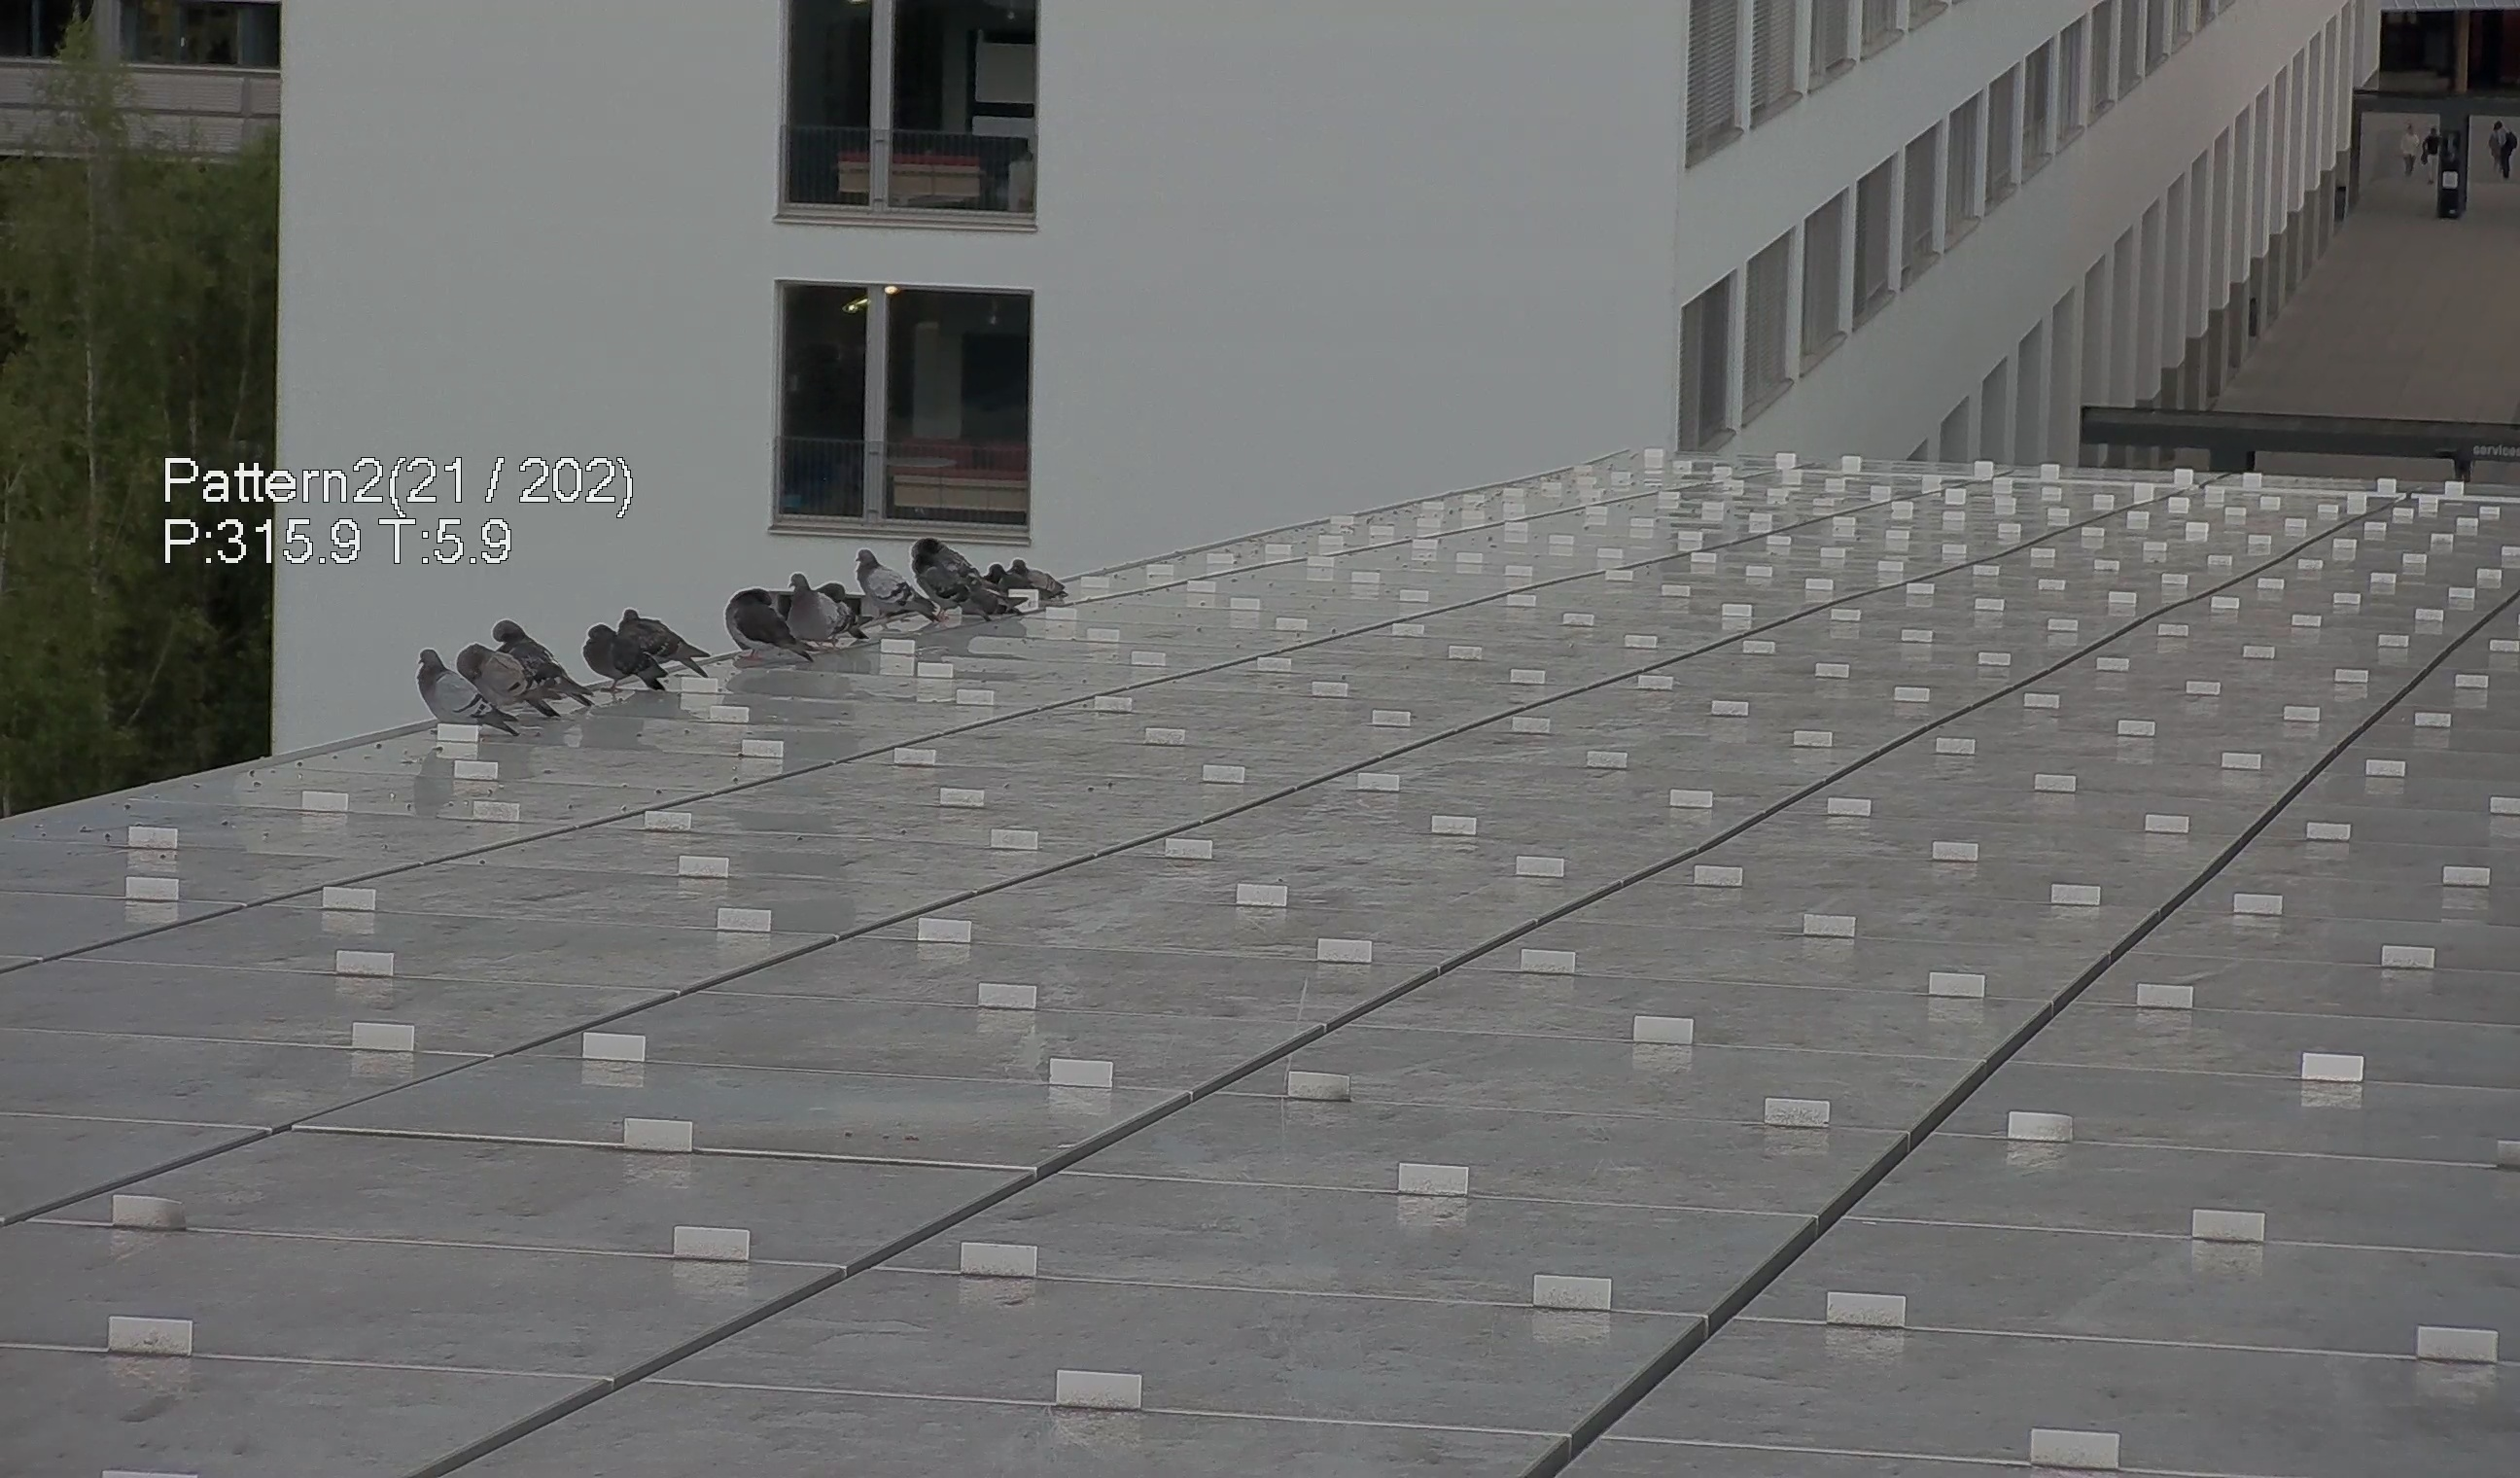Pigeon: (897, 535, 1016, 626), (404, 644, 510, 739), (703, 584, 816, 665), (496, 611, 582, 700), (784, 568, 878, 651), (455, 644, 549, 716), (617, 605, 709, 677), (573, 623, 661, 693), (856, 549, 932, 619), (980, 551, 1074, 605)
